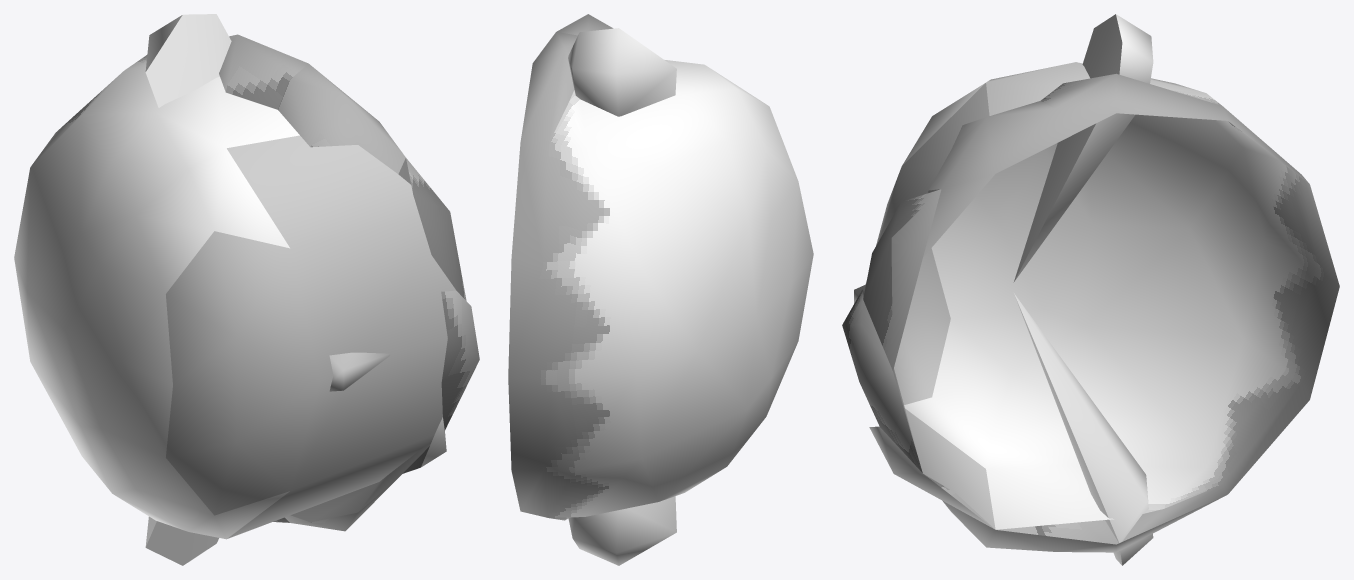
The model's file is girl12b.dae.
The picture shows the model from 3 angles, left to right: view 1: azimuth 30°, elevation 25°; view 2: azimuth 150°, elevation 25°; view 3: azimuth 270°, elevation 25°; orthographic projection. The views are drawn at different scales.
Visible parts, largest first — view 1: vsn_mesh_0_, vsn_mesh_1_, vsn_mesh_2_; view 2: vsn_mesh_0_; view 3: vsn_mesh_0_, vsn_mesh_1_, vsn_mesh_2_.
Boxes of the visible parts, left/top/right/bottom form: vsn_mesh_0_: left=14, top=14, right=479, bottom=565; vsn_mesh_1_: left=227, top=135, right=455, bottom=538; vsn_mesh_2_: left=166, top=231, right=319, bottom=515; vsn_mesh_0_: left=508, top=14, right=813, bottom=565; vsn_mesh_0_: left=842, top=14, right=1339, bottom=565; vsn_mesh_1_: left=854, top=83, right=995, bottom=529; vsn_mesh_2_: left=865, top=169, right=950, bottom=404.
Bounding box in the file's own units: 15.5 × 26.71 × 22.11.
3 materials, 1 textured.
